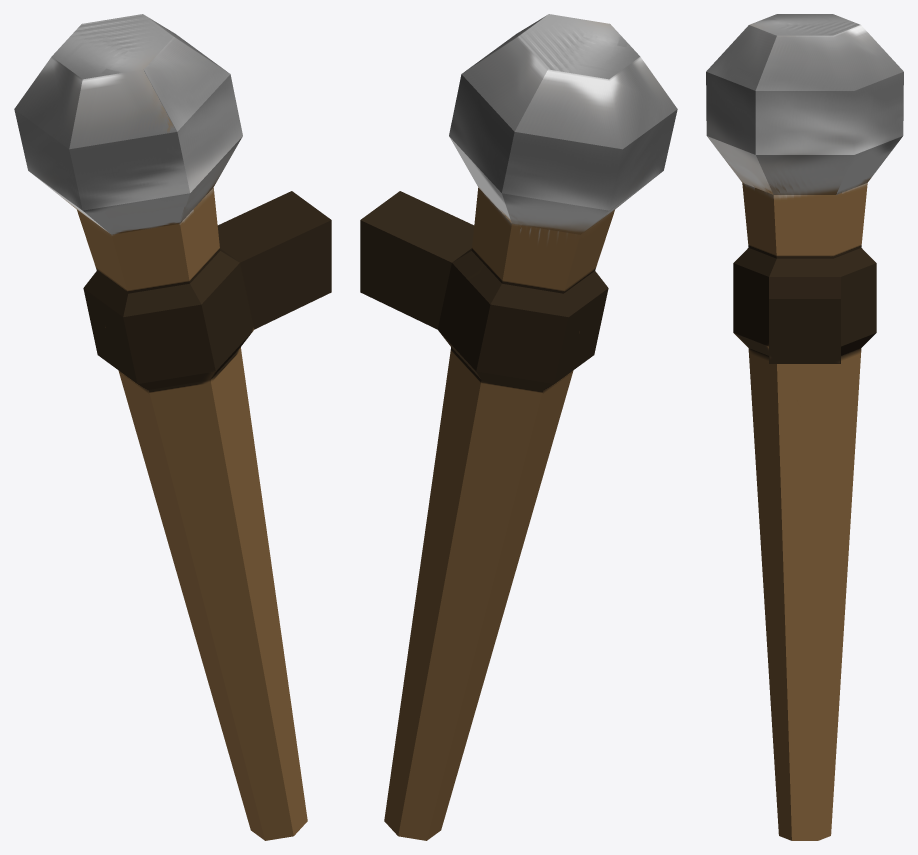
The model's file is Torch.fbx.
3 renders of one model, left to right at view 1: azimuth 30°, elevation 25°; view 2: azimuth 150°, elevation 25°; view 3: azimuth 270°, elevation 25°, orthographic. The views are drawn at different scales.
Visible parts, largest first — view 1: Cylinder; view 2: Cylinder; view 3: Cylinder.
Part boxes in pixels (box(x1,y1,x2,y2)): Cylinder: box(14, 14, 331, 840); Cylinder: box(360, 14, 677, 840); Cylinder: box(706, 14, 903, 840).
Size of the model in its own units: 0.5644 by 0.398 by 1.67.
Materials: 1 (1 with a texture image).
